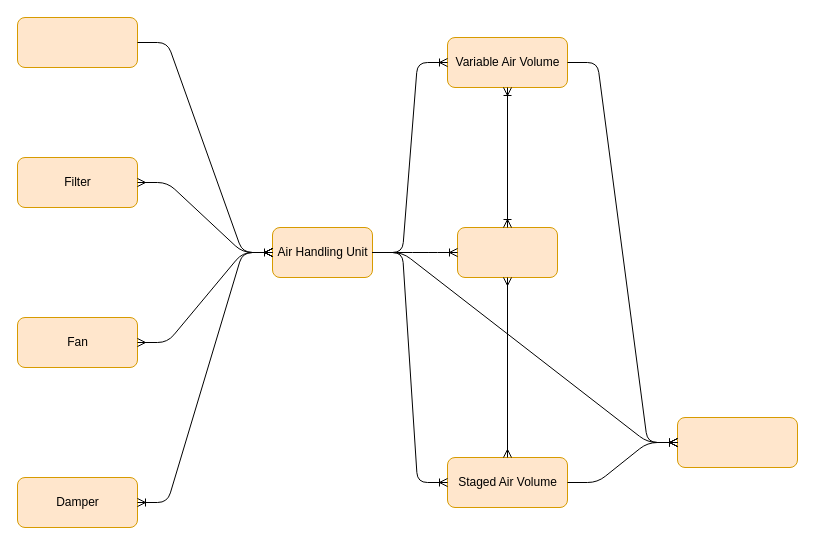
The diagram is 815 pixels wide and 545 high, and some of its shapes have lost their labels. The shapes that lost their labels are listed below. From the top down, each one's centre as x and y in pixels, then its label:
At (x=77, y=42): "VFD".
At (x=507, y=252): "Heat Exchanger".
At (x=737, y=442): "Thermafuser".
